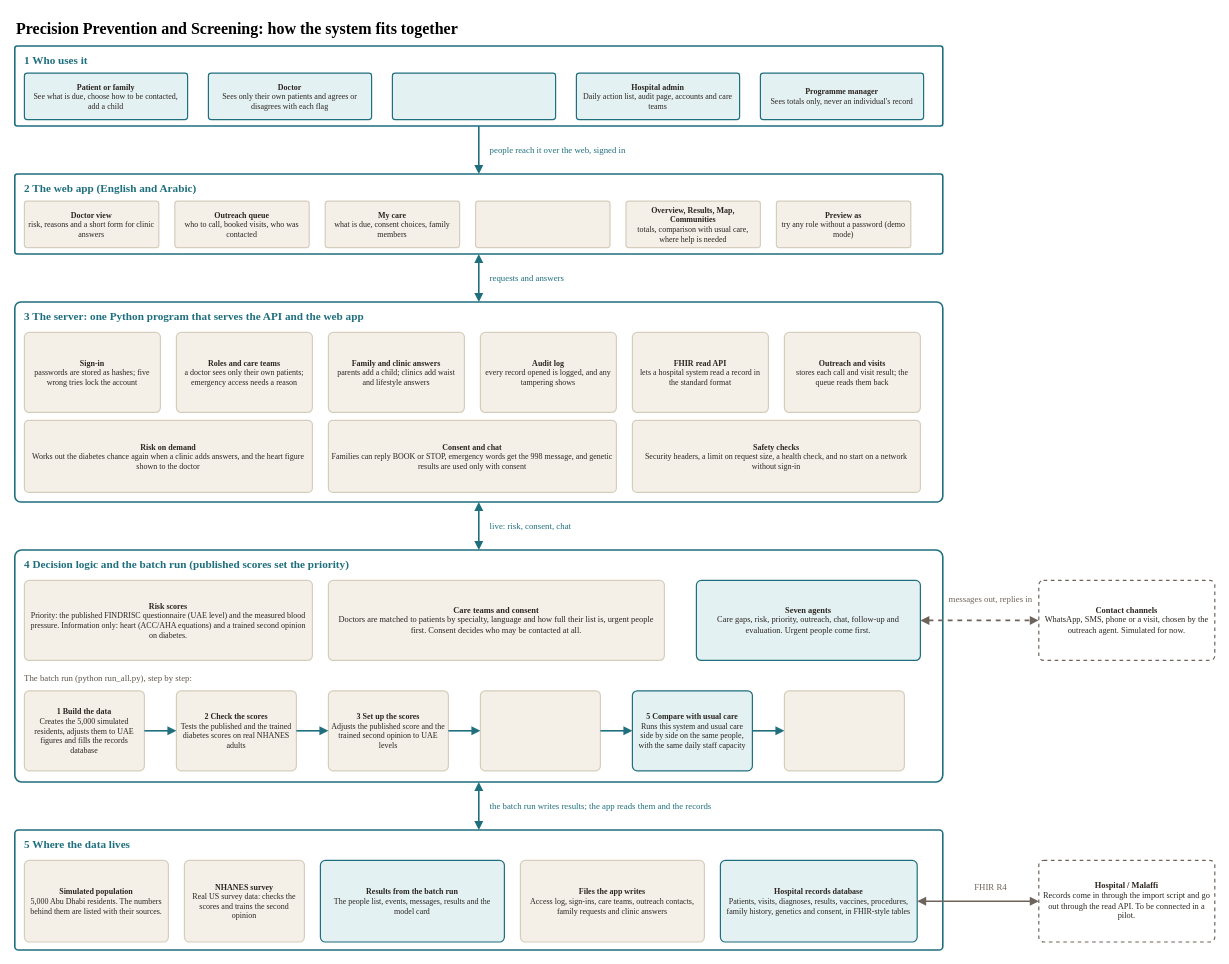
Image size: 1229x964. Some labels were removed from this diagram. The shapes that lost their labels are listed below. From the top down, each one's centre as x and y in pixels, then its label:
At point 473,96: "Outreach staff Call the people on today's list and record what happened".
At point 542,224: "Today and Audit what needs action, and who opened which record".
At point 540,730: "4 Calibrate Tunes usual care to match published UAE figures".
At point 844,730: "6 Evaluate Outcomes, fairness by group, worst case and cost".
